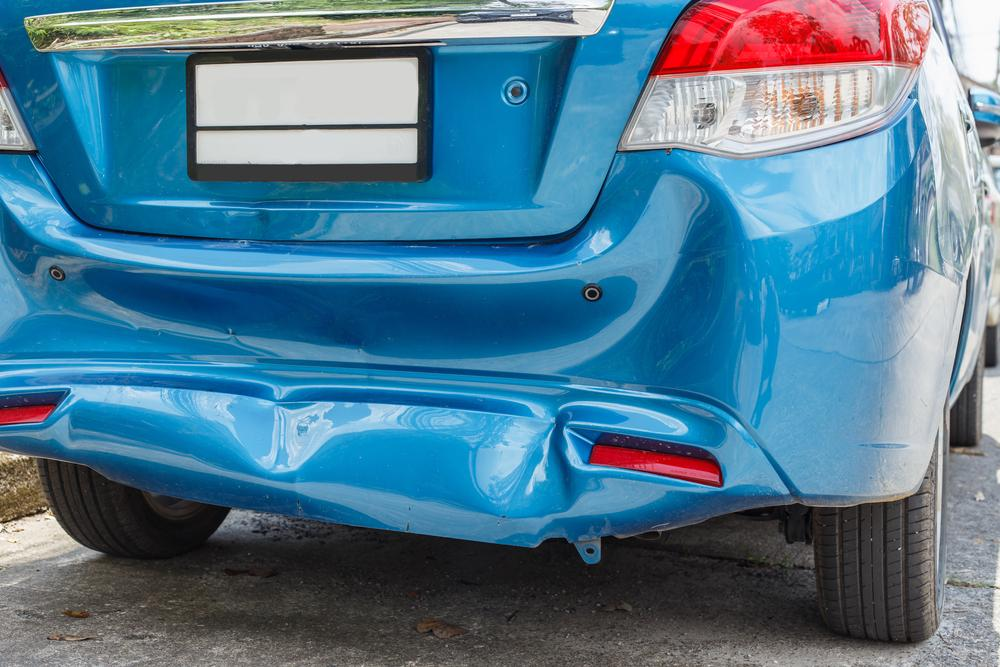dent: (59, 172, 748, 388), (474, 405, 580, 519), (228, 393, 339, 476)
